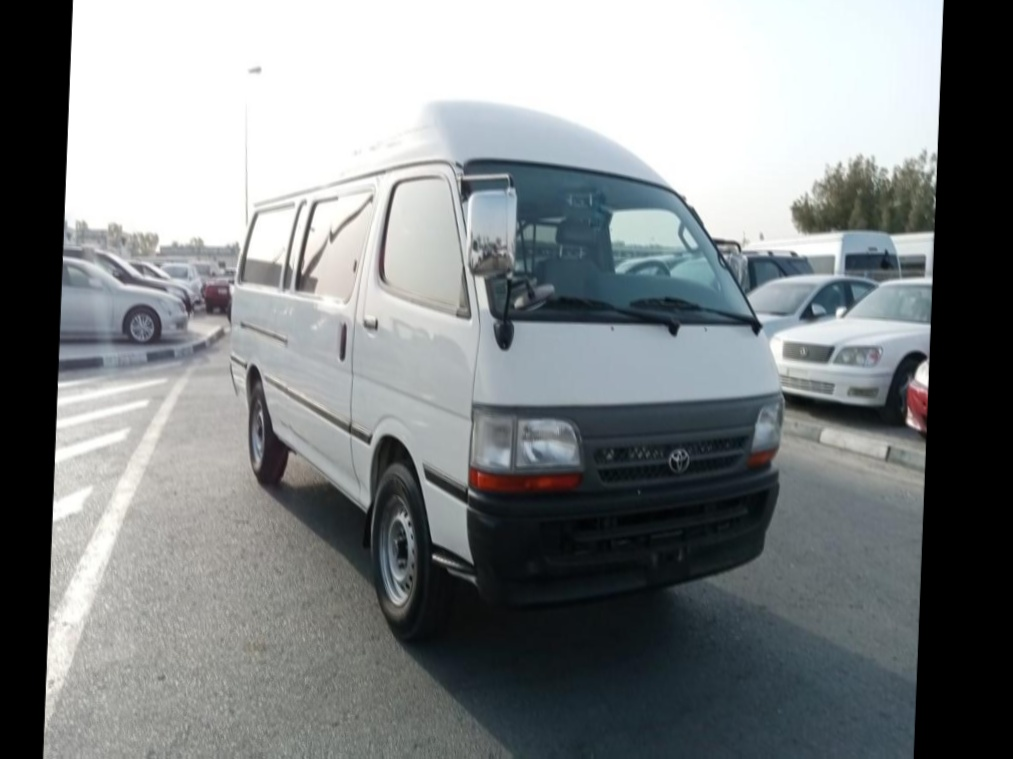van: (215, 96, 795, 641)
